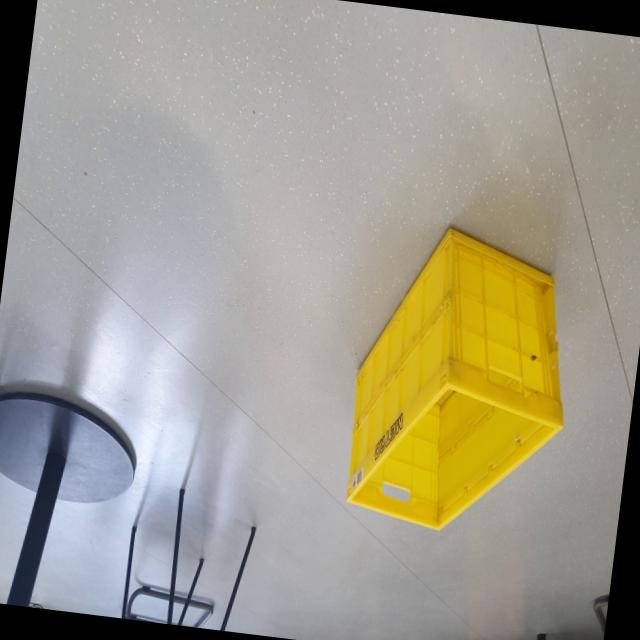box: (319, 209, 594, 556)
